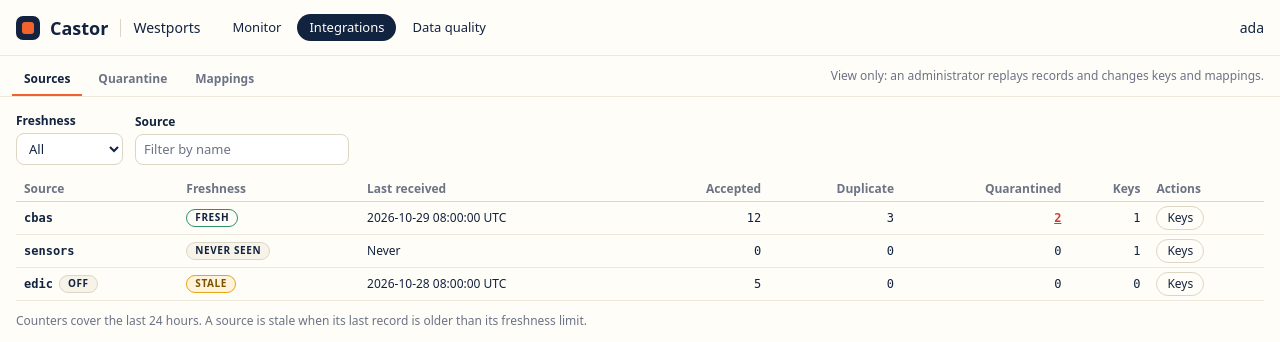
Integrations page › Sources › filters by freshness and by name and says when nothing matches
Check: the table named "Sources and their counters" is shown, box [16,177,1264,301]
Select "Stale" in the dropdown labelled "Freshness" at (70, 149), box [16,133,123,165]
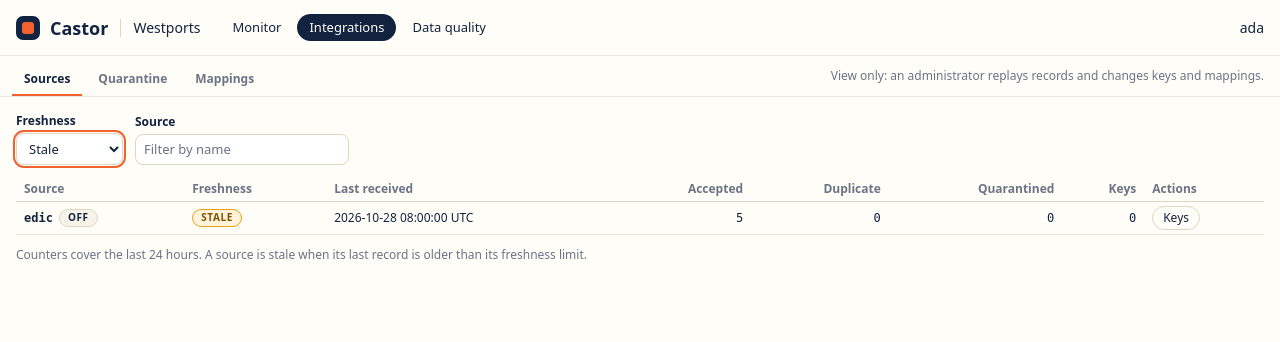
Check: the number of rows is 2, box [16,177,1264,202]; [16,202,1264,234]
Check: the text "edic" is shown, box [24,210,53,226]
Type "cbas" into the field labelled "Source".
click(242, 150); type("cbas")  # box [135,134,349,165]
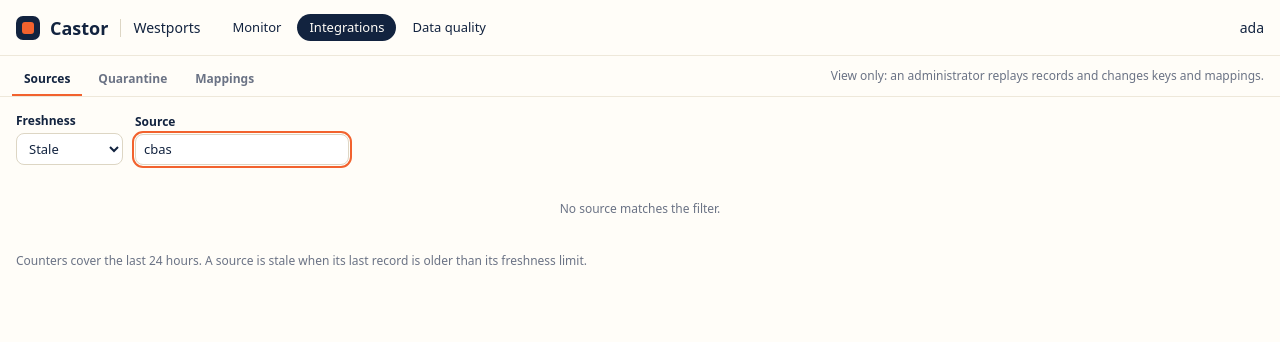
Check: the text "No source matches the filter." is shown, box [560,200,720,217]
